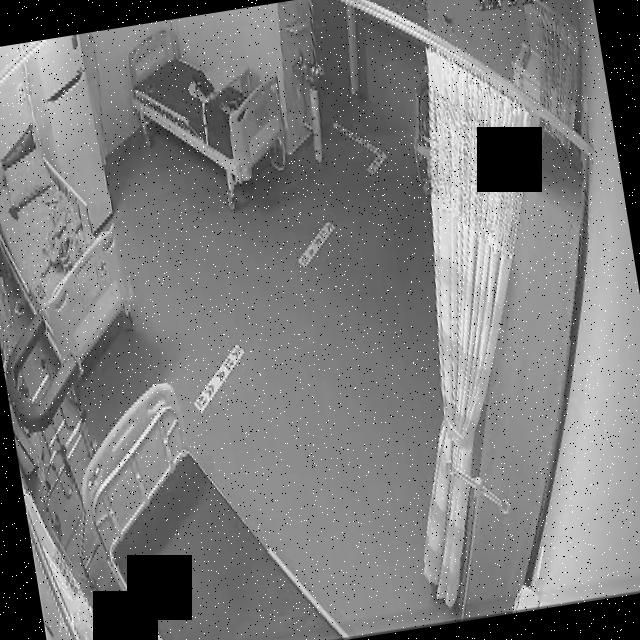bed: (62, 358, 344, 640), (0, 132, 143, 374), (124, 12, 294, 196)
